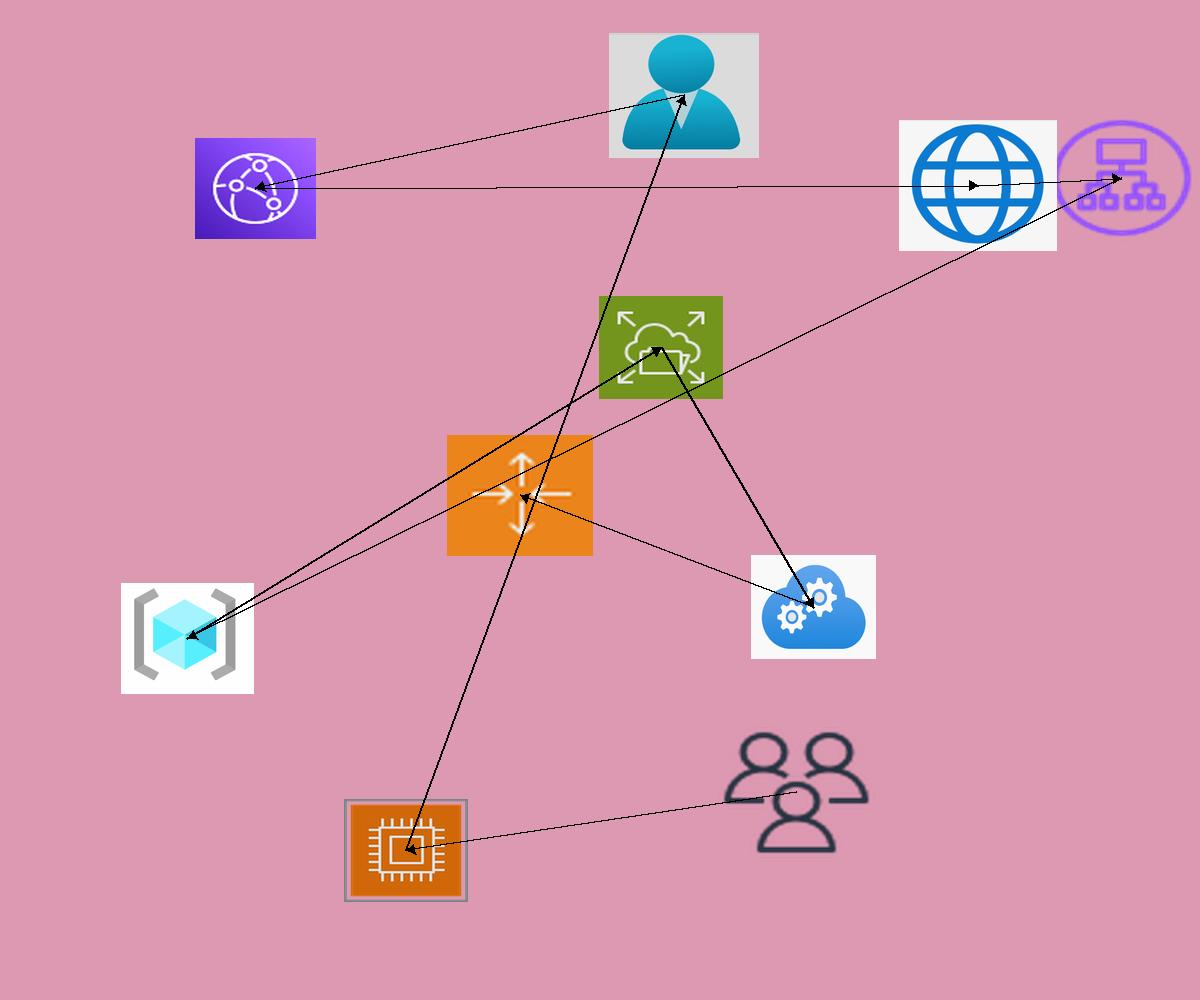AWS-Category_Compute: (344, 799, 468, 902)
AWS-CloudFront: (195, 138, 316, 239)
AWS-EFS: (599, 296, 723, 399)
AWS-Res_Elastic-Load-Balancing_Application-Load-Balancer: (1046, 115, 1197, 241)
AWS-Res_Users: (718, 727, 875, 858)
AWS-Scaling-group: (447, 435, 593, 556)
Azure_cloud_services: (751, 555, 876, 659)
Azure_http: (899, 120, 1057, 251)
Azure_resource_group: (121, 583, 254, 694)
Azure_users: (609, 33, 759, 158)
